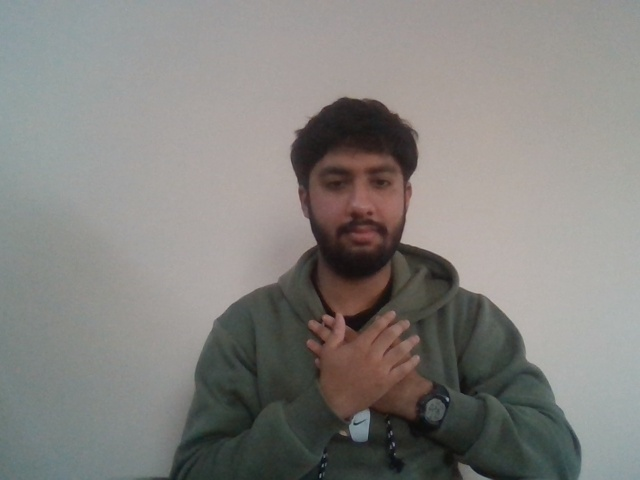Please: (290, 309, 434, 411)
